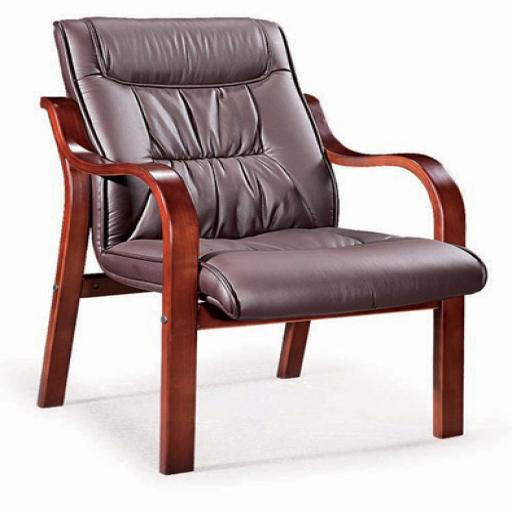chair: (23, 10, 480, 490)
